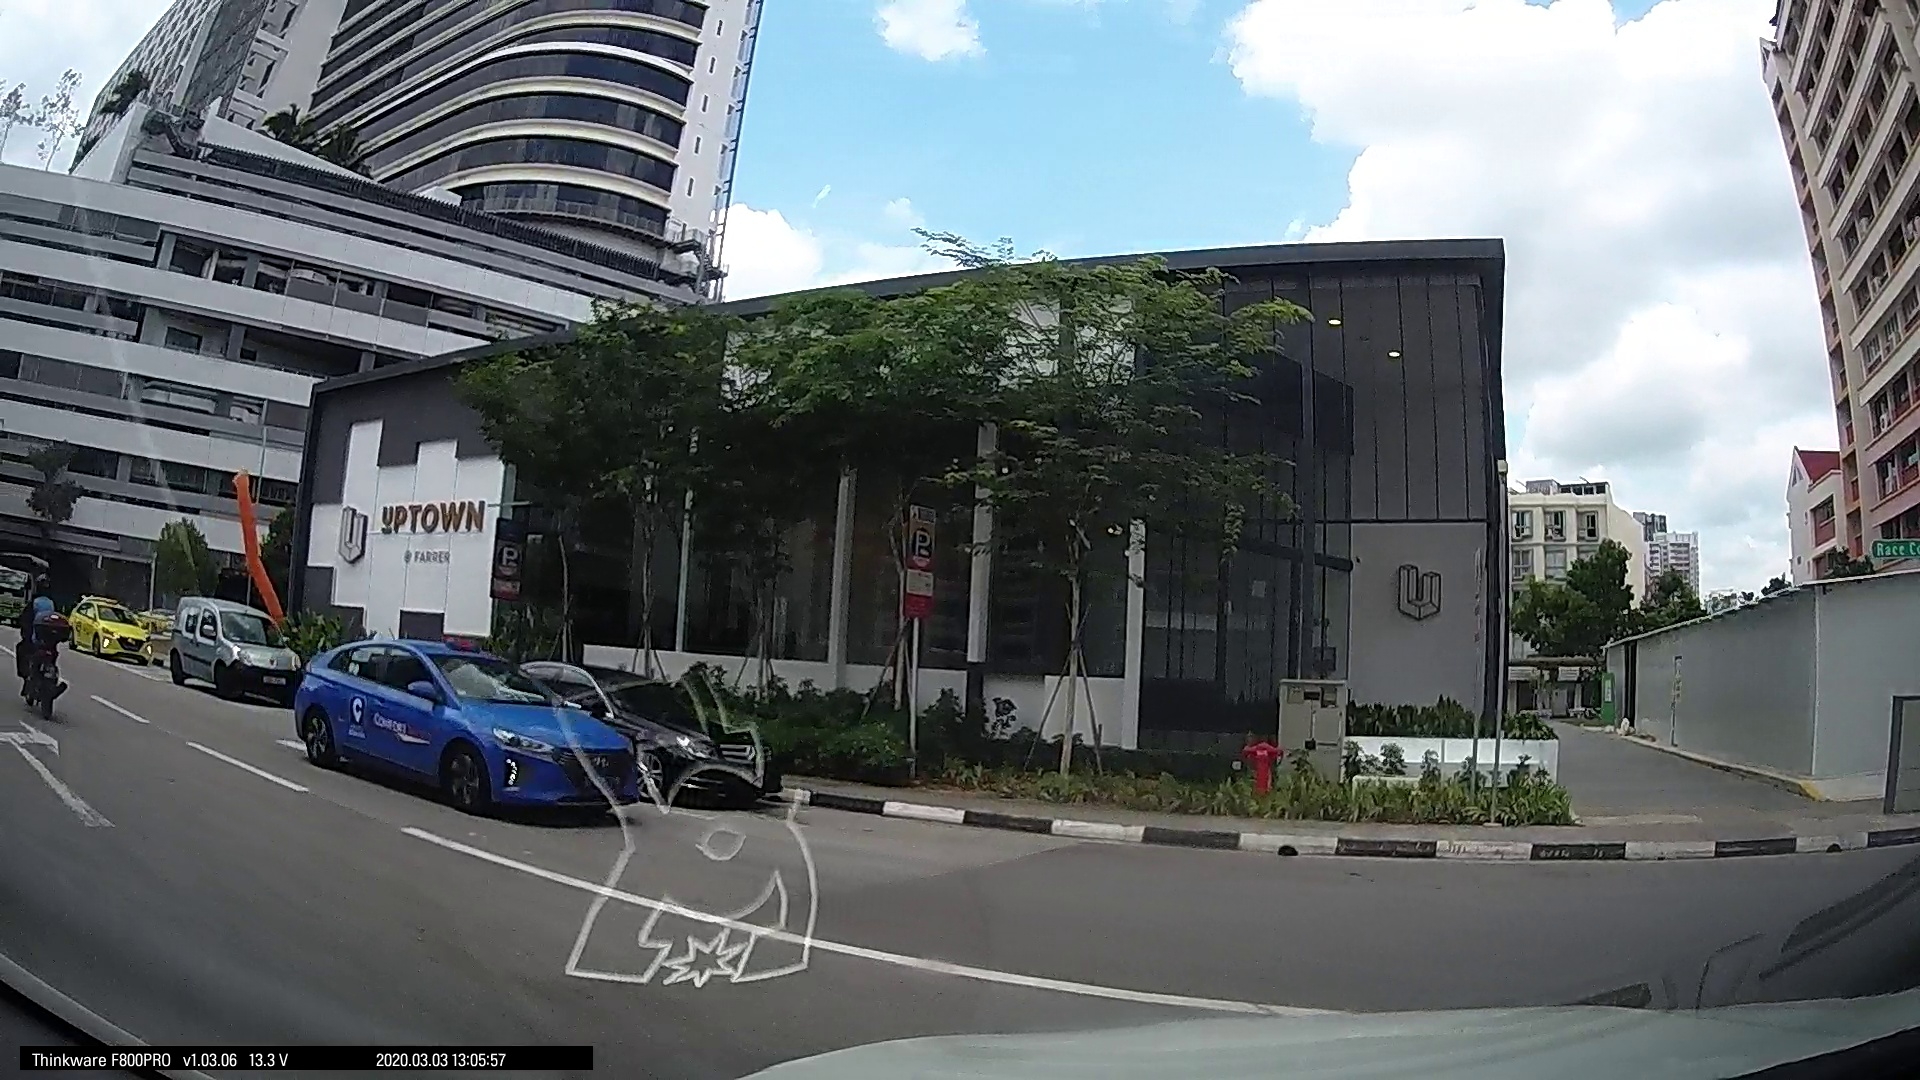Light Vehicle: (285, 638, 653, 822), (156, 591, 295, 702), (61, 592, 158, 665)
Motorcycle: (8, 578, 75, 724)
